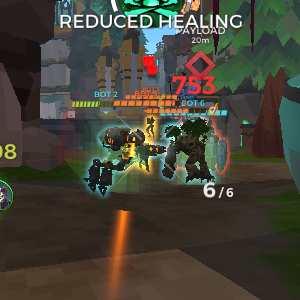model: (135, 138, 153, 173), (145, 111, 159, 135)
